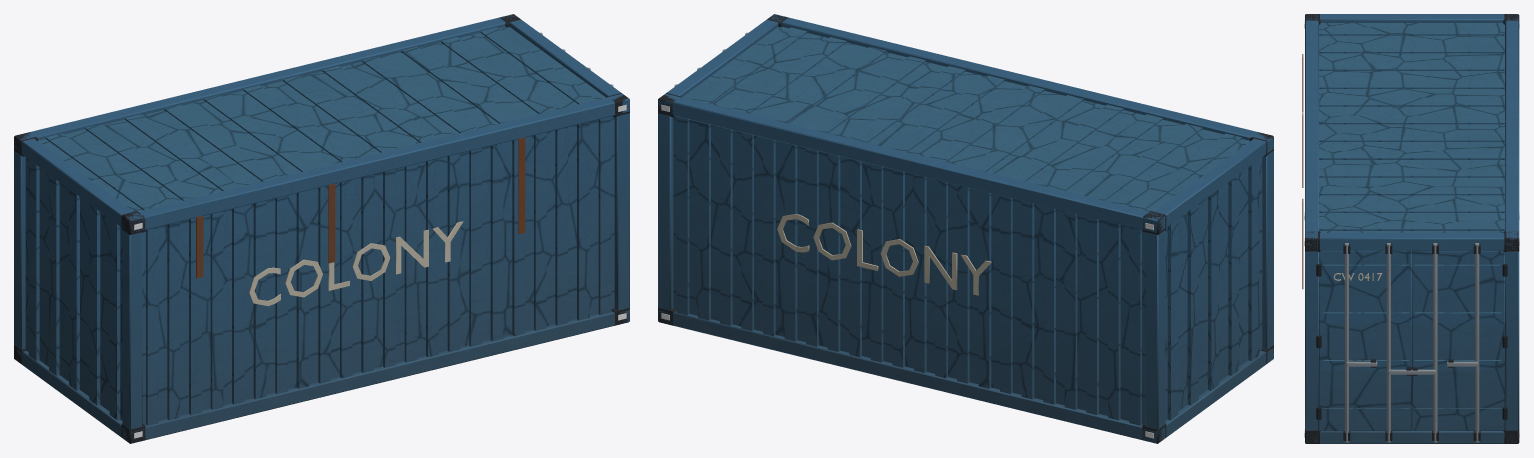
Rendered from shipping_container.glb.
3 renders of one model, left to right at view 1: azimuth 30°, elevation 25°; view 2: azimuth 150°, elevation 25°; view 3: azimuth 270°, elevation 25°, orthographic. The views are drawn at different scales.
Parts seen in each view (by area): view 1: shipping_container; view 2: shipping_container; view 3: shipping_container.
Boxes of the visible parts, x1,y1,x2,y2 form: shipping_container: (14, 14, 629, 443); shipping_container: (658, 14, 1273, 443); shipping_container: (1302, 14, 1519, 443).
Bounding box in the file's own units: 6.16 × 2.59 × 2.48.
7 materials, 7 textured.
